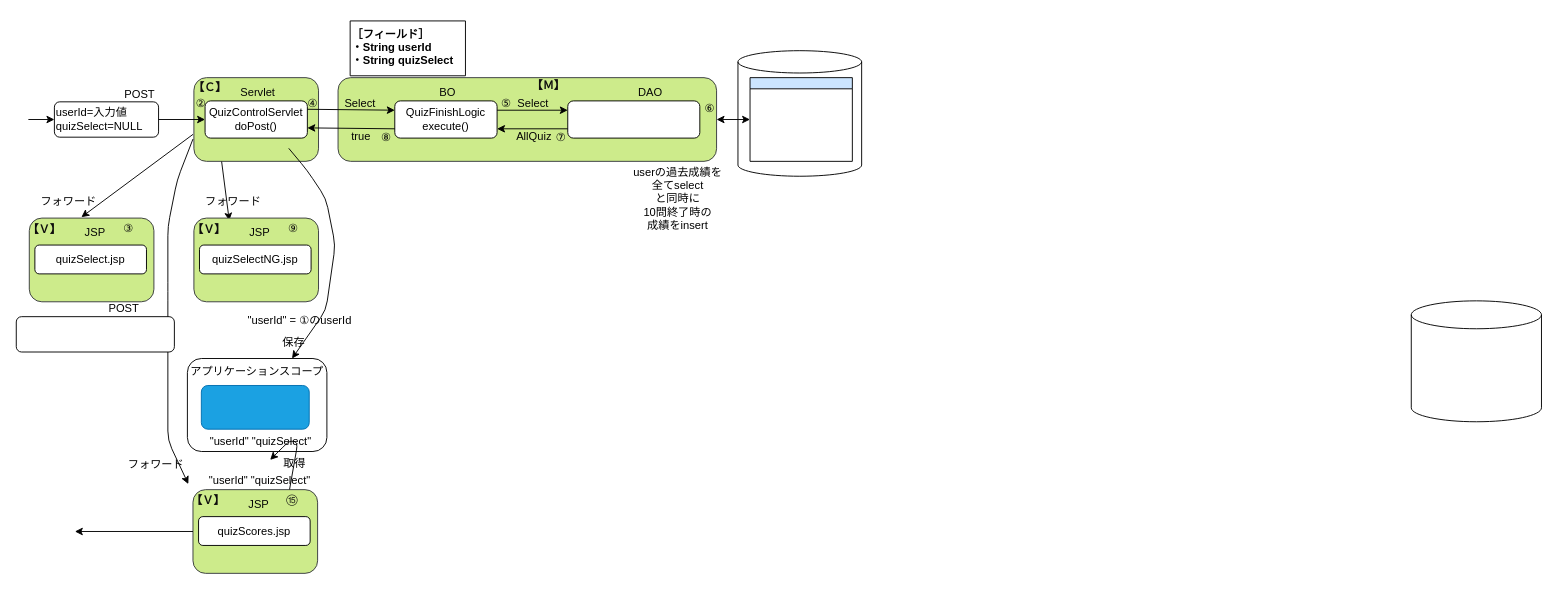
The diagram is 1558 pixels wide and 590 high, and some of its shapes have lost their labels. The shapes that lost their labels are listed below. From the top down, each one's centre as x and y in pixels, then its label:
At (x=633, y=119): "UserScoresDAO findByAllScores()".
At (x=800, y=119): "USER_GRADES テーブル".
At (x=94, y=334): "userId=入力値 quizSelect=All or New or Miss".
At (x=254, y=407): "ユーザーID クイズセレクタ".
